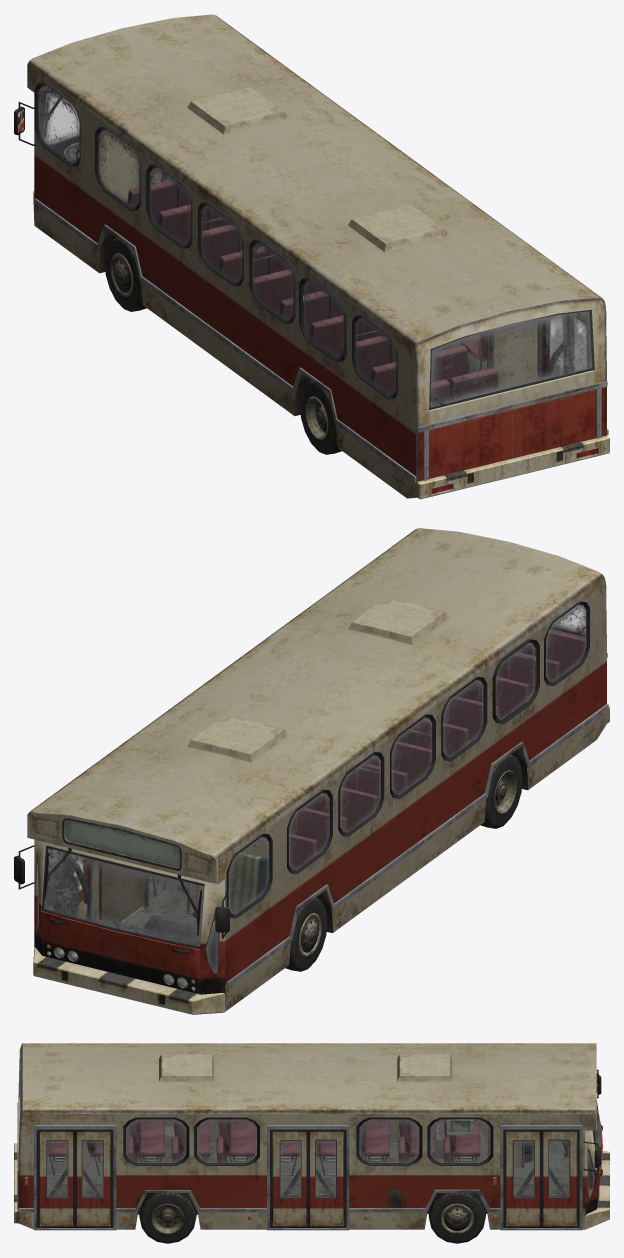
Rendered from car3_bus_wrecked.glb.
3 renders of one model, top to bottom at view 1: azimuth 30°, elevation 25°; view 2: azimuth 150°, elevation 25°; view 3: azimuth 270°, elevation 25°, orthographic. The views are drawn at different scales.
Parts seen in each view (by area): view 1: Bus; view 2: Bus; view 3: Bus.
Part boxes in pixels (x1,y1,x2,y2): Bus: (14,14,609,499); Bus: (14,528,609,1014); Bus: (14,1043,609,1243).
Bounding box in the file's own units: 3.56 × 3.11 × 11.5.
Materials: 5 (5 with a texture image).
